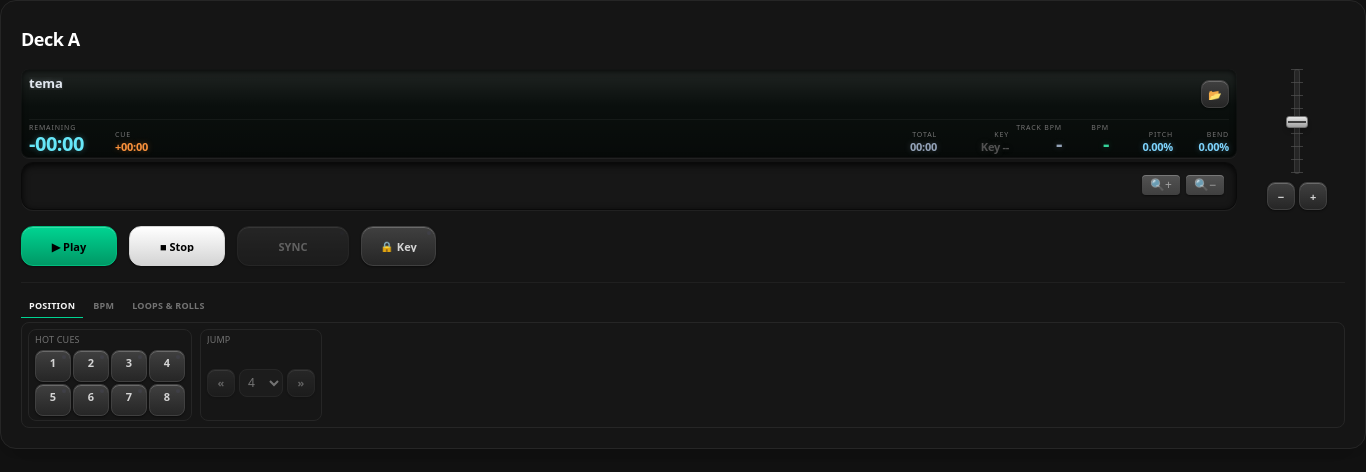
Scenario: caja de estructura › sin estructura, los controles de frase no se pueden tocar
Click the tab "BPM". click: (104, 307)
box: [85,295,122,318]
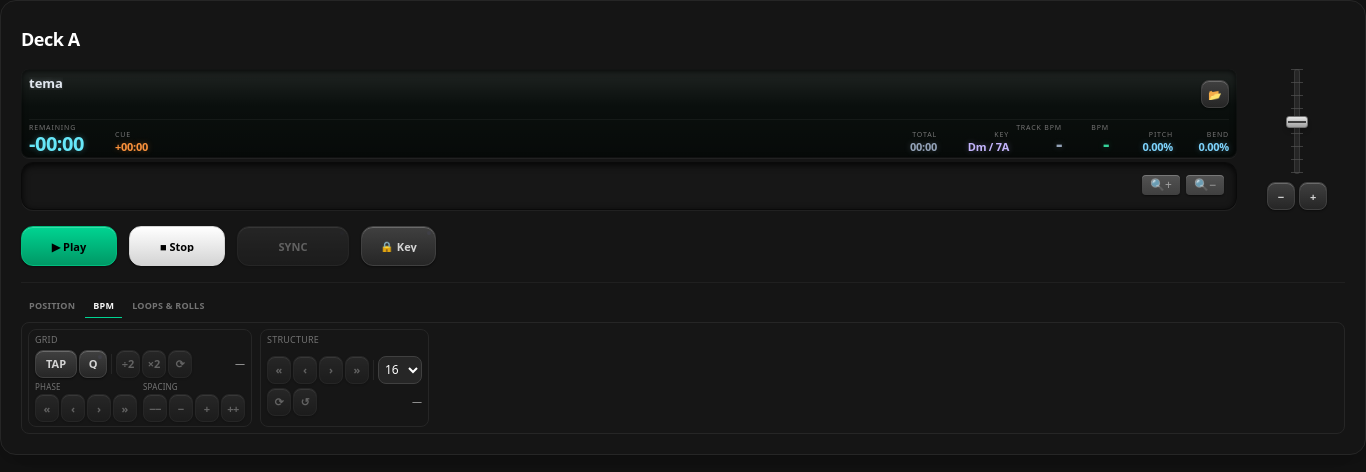
Expected: the text titled "Current phrase shift, in kicks. Amber when you set it by hand" below "Structure" reads "—", [412,394,422,408]
Now the button titled "Shift the phrase 1 kick forward" below "Structure" is disabled, box [319,356,343,384]
Now the button titled "Back to the phrase shift the analysis found" is disabled, box [293,388,317,416]
